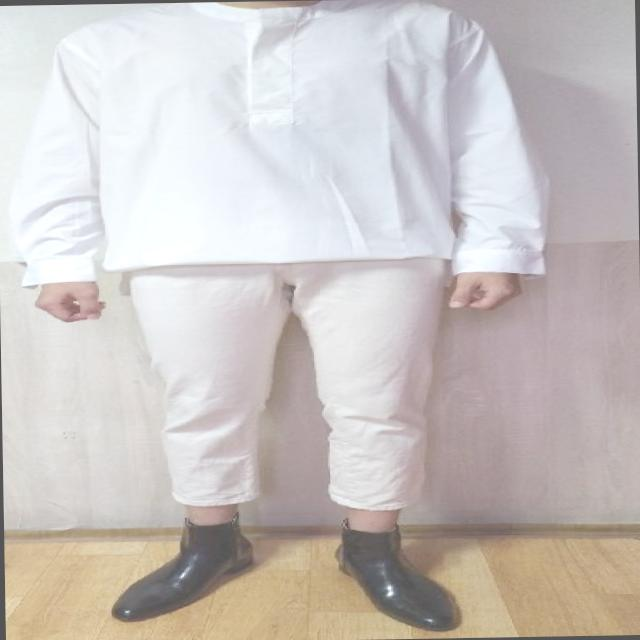cottonpants: (124, 254, 457, 518)
shirt: (3, 0, 559, 290)
